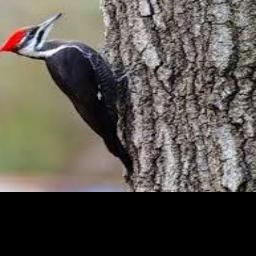Woodpecker: (0, 11, 139, 181)
